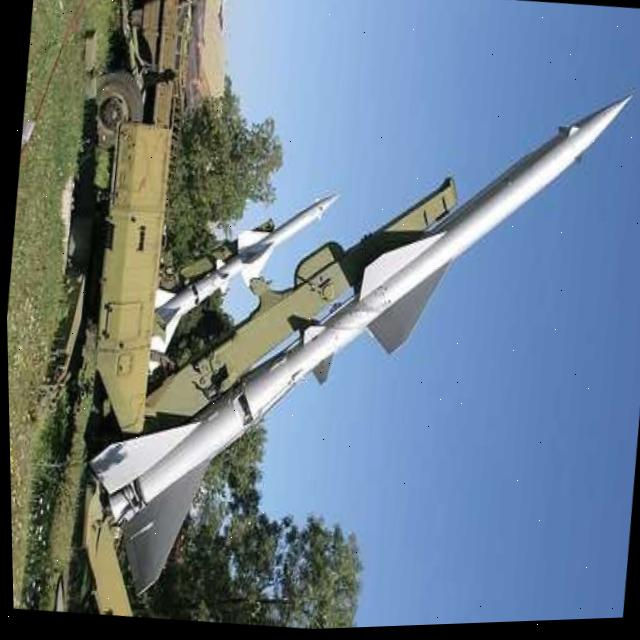missile: (72, 41, 640, 638), (129, 166, 346, 403)
